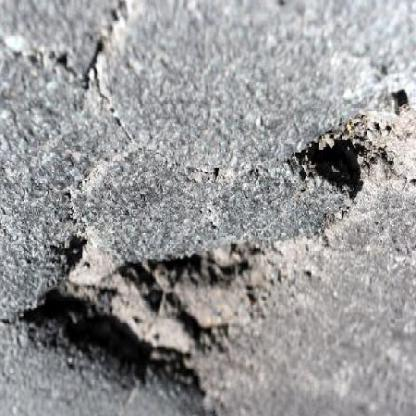pothole: (18, 227, 297, 416), (289, 93, 416, 211)
